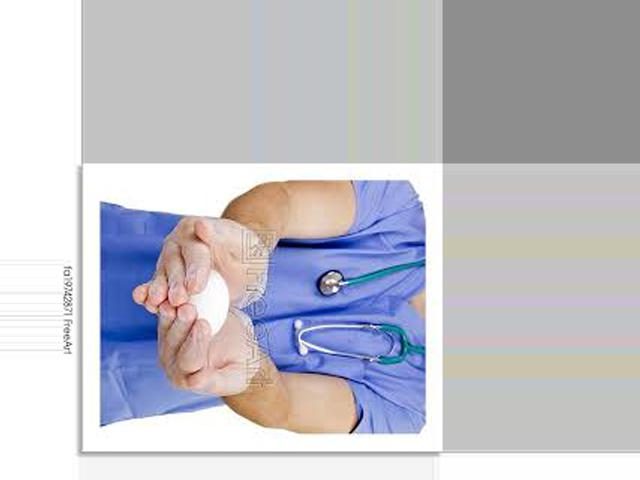egg: (185, 271, 228, 336)
